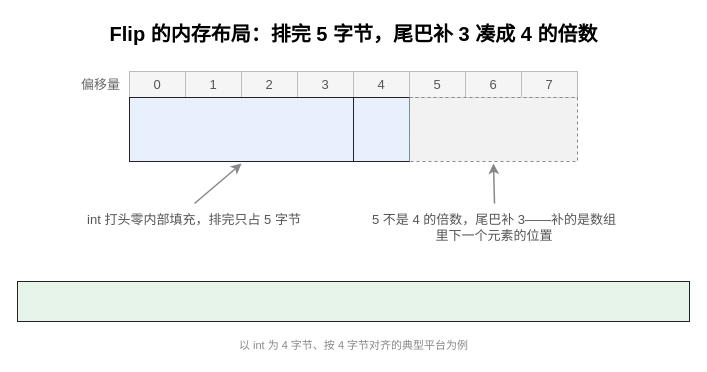
Some shapes in this 707 by 372 pixel diagram are drawn without their labels. The centre of each missing label's shape, as x and y in pixels:
a char: [381,129]
b int（4 字节）: [241,129]
填充 ×3: [493,129]
成员合计 5 字节 + 填充 3 字节 = sizeof(Flip) = 8: [353,301]
